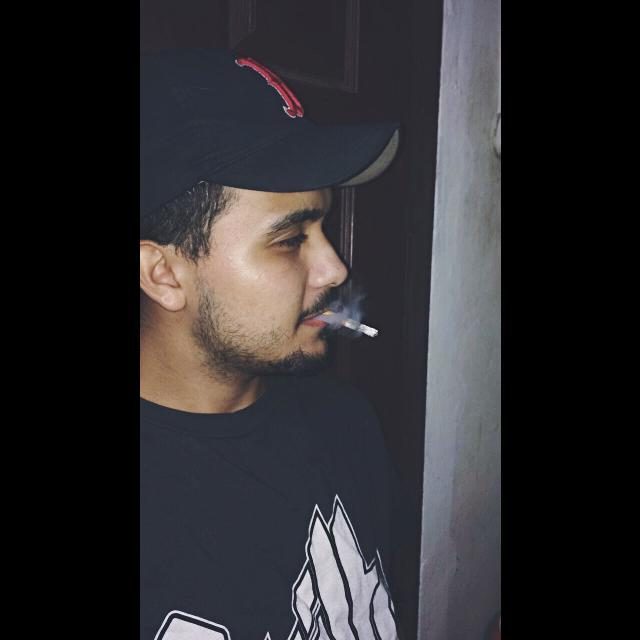rokok: (324, 300, 378, 338)
